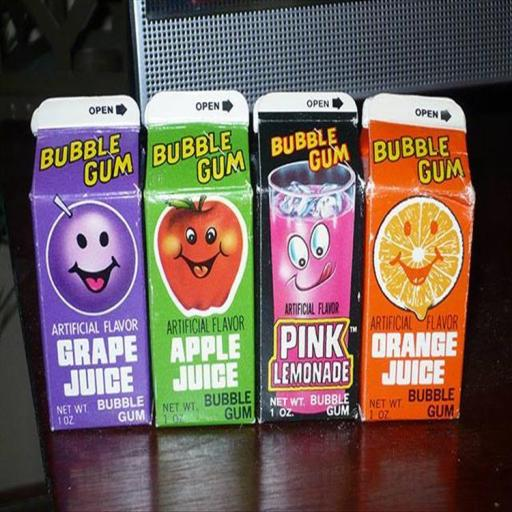drink carton: (27, 95, 153, 430), (360, 94, 479, 421), (143, 90, 255, 428), (254, 92, 363, 424)
